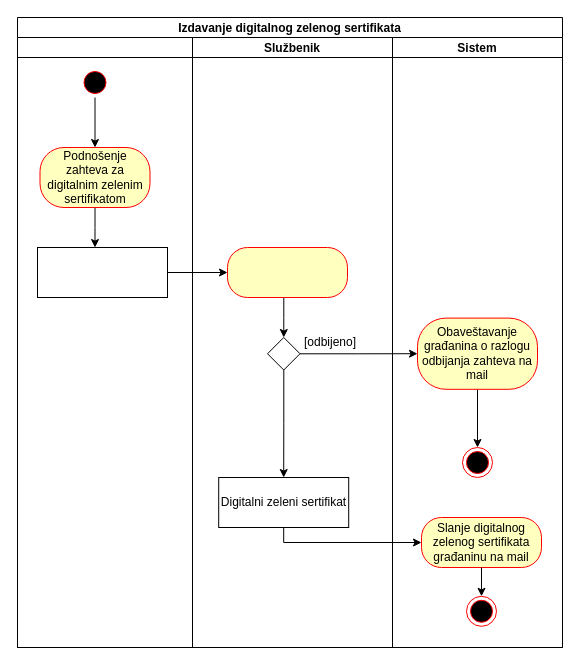
This 580x665 diagram has some shape labels left out. Each missing label, with the box of its shape:
Građanin: (16, 36, 192, 648)
Odluka o prihvatanju zahteva: (226, 246, 348, 298)
Zahtev za izdavanje digitalnog zelenog sertifikata: (36, 246, 168, 298)
